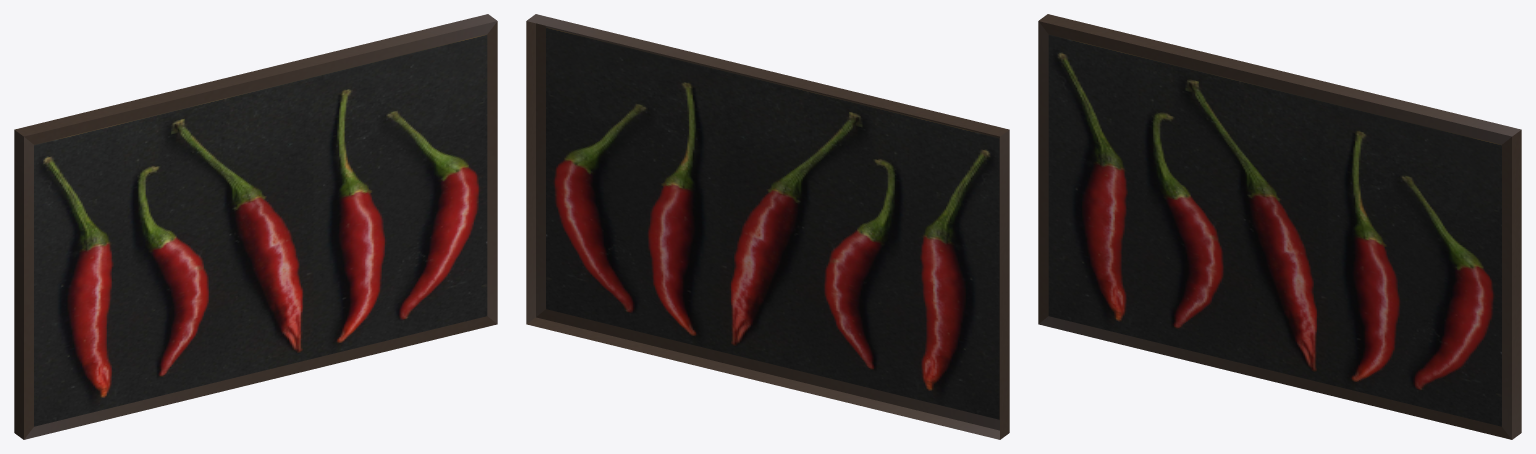
The model's file is paint_2.fbx.
The picture shows the model from 3 angles, left to right: view 1: azimuth 30°, elevation 25°; view 2: azimuth 150°, elevation 25°; view 3: azimuth 330°, elevation 25°; orthographic projection.
Parts seen in each view (by area): view 1: pCube2; view 2: pCube2; view 3: pCube2.
Boxes of the visible parts, left/top/right/bottom form: pCube2: left=14, top=14, right=497, bottom=439; pCube2: left=526, top=14, right=1009, bottom=439; pCube2: left=1038, top=14, right=1521, bottom=439.
Size of the model in its own units: 141 by 86.22 by 4.93.
